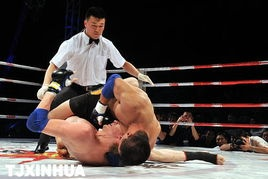falling: (27, 74, 155, 164)
